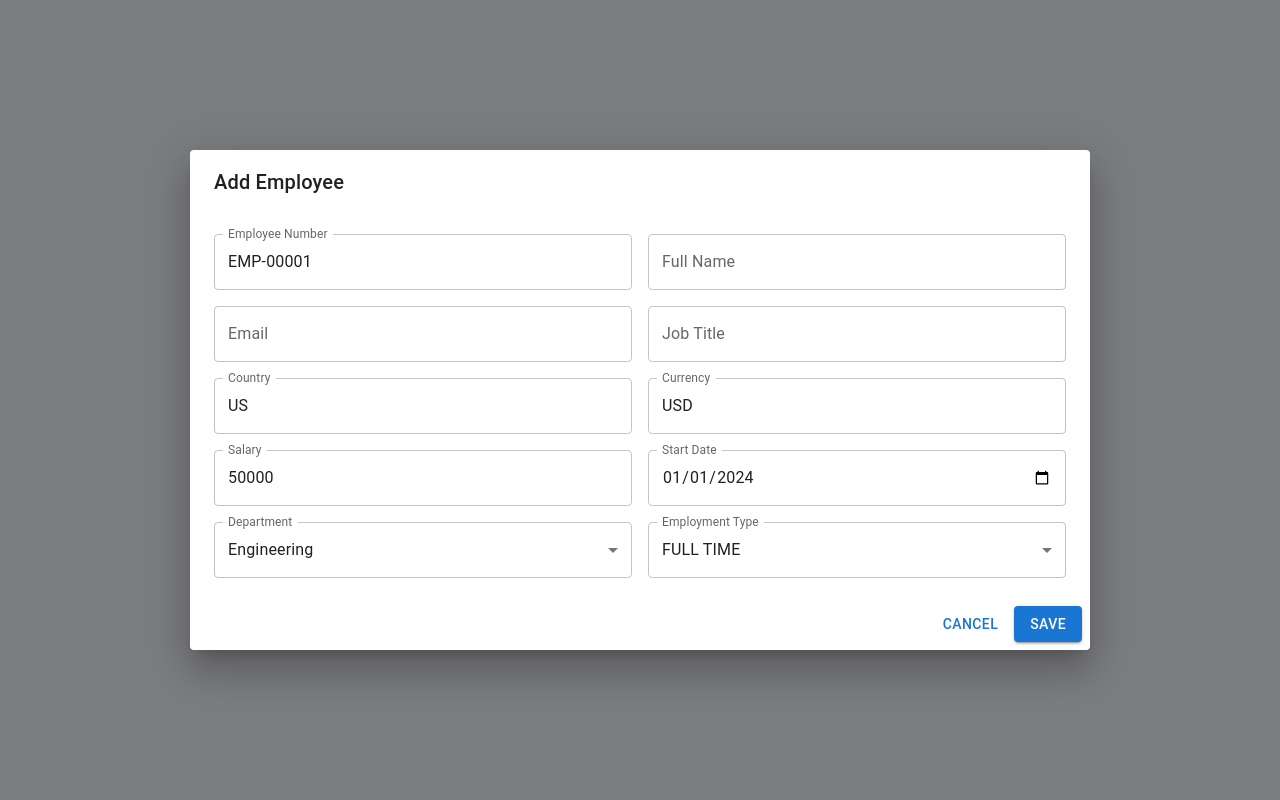
Test: EmployeeDialog › shows validation error for invalid email
In the field labelled "Email": (423, 334) [214,306,632,362], type "invalid-email"
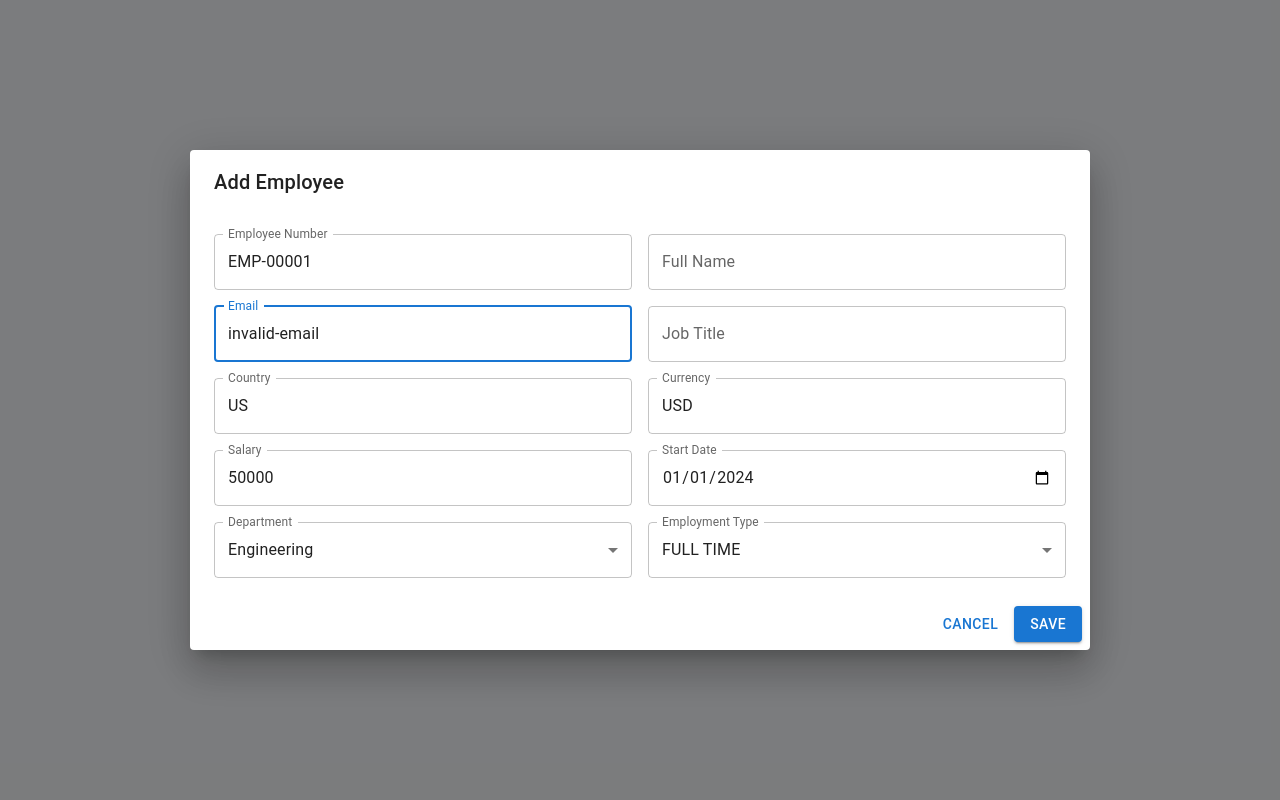
Click the button "Save": (1048, 624) [1014,606,1082,642]
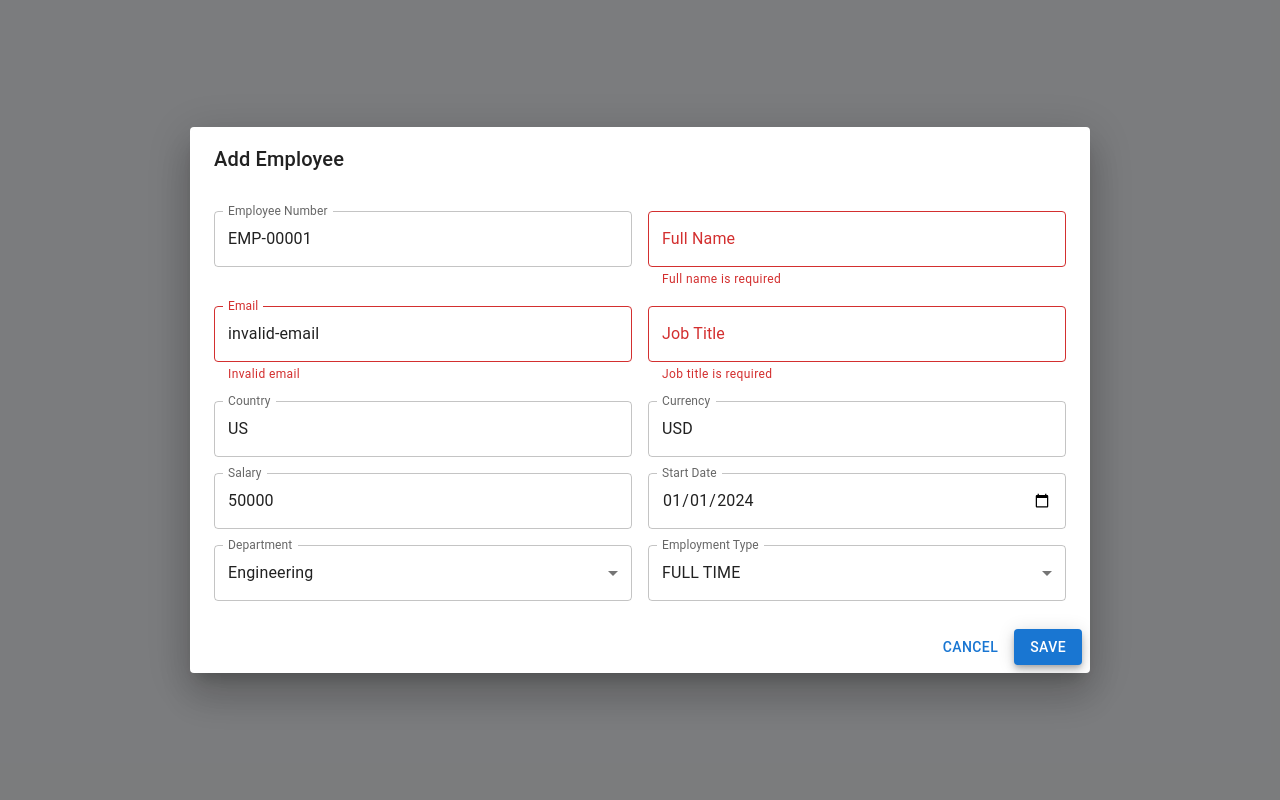
Expected: the text "Invalid email" is shown, [228,367,300,381]
